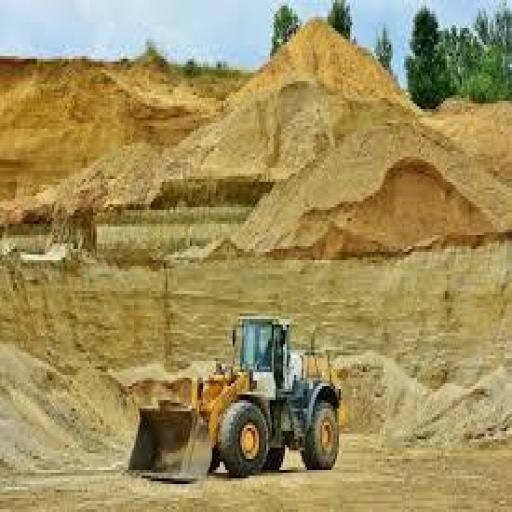Proclainer: (115, 300, 353, 498)
